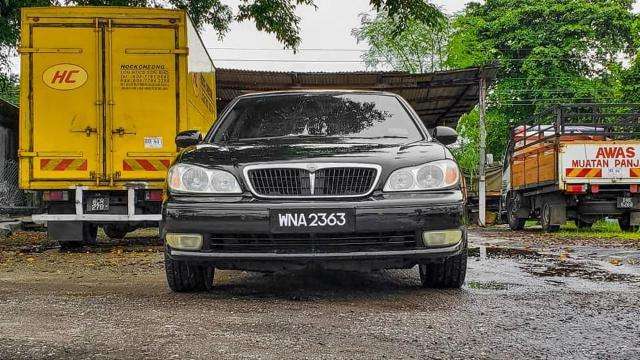License_Plate: (271, 209, 357, 233)
car: (153, 79, 469, 293)
